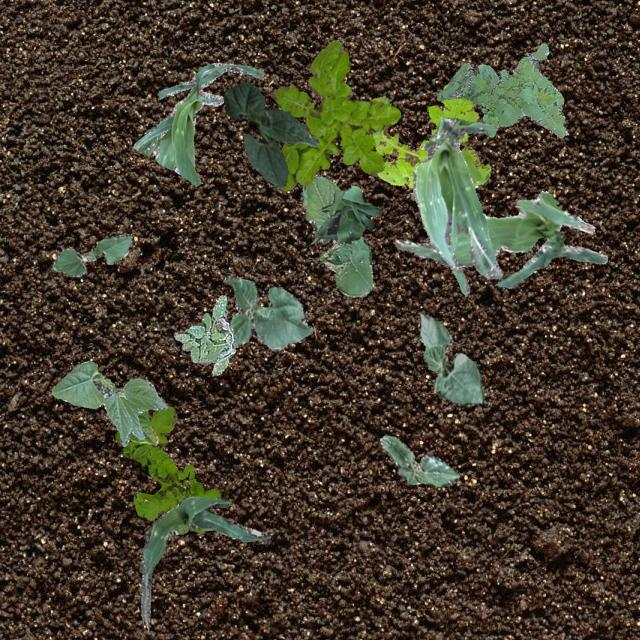crop: (392, 190, 606, 288), (138, 496, 270, 630), (412, 117, 502, 296), (132, 62, 262, 185), (222, 80, 318, 188), (50, 360, 166, 446), (300, 172, 372, 296), (222, 274, 312, 350), (418, 312, 483, 404), (379, 434, 458, 486), (310, 185, 380, 242), (51, 232, 132, 276), (128, 410, 158, 444)
weed: (272, 39, 399, 190), (114, 404, 220, 532), (436, 42, 566, 136), (368, 95, 489, 186), (172, 294, 234, 374)
